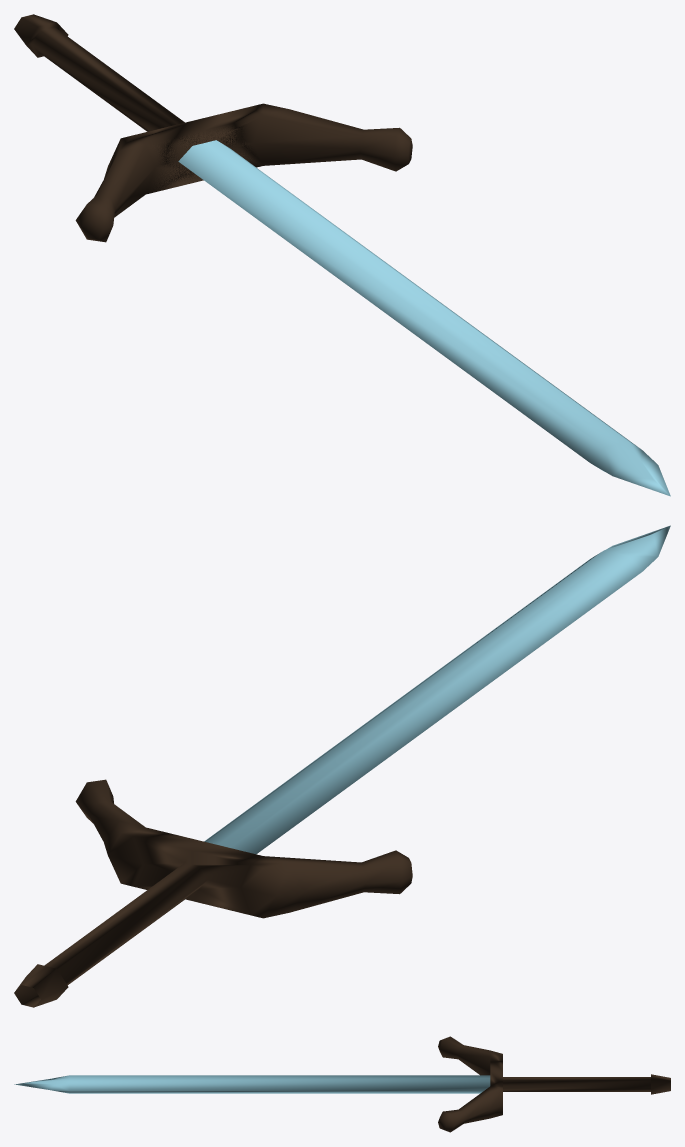
Rendered from WeaponClaymore.dae.
The picture shows the model from 3 angles, top to bottom: view 1: azimuth 30°, elevation 25°; view 2: azimuth 150°, elevation 25°; view 3: azimuth 270°, elevation 25°; orthographic projection. The views are drawn at different scales.
Visible parts, largest first — view 1: Claymore; view 2: Claymore; view 3: Claymore.
Boxes of the visible parts, x1,y1,x2,y2 form: Claymore: [14, 14, 670, 496]; Claymore: [14, 525, 670, 1007]; Claymore: [14, 1036, 670, 1132].
Bounding box in the file's own units: 0.5362 × 1.8 × 0.0776.
